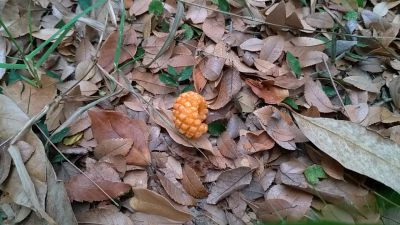eggs: (169, 90, 213, 140)
